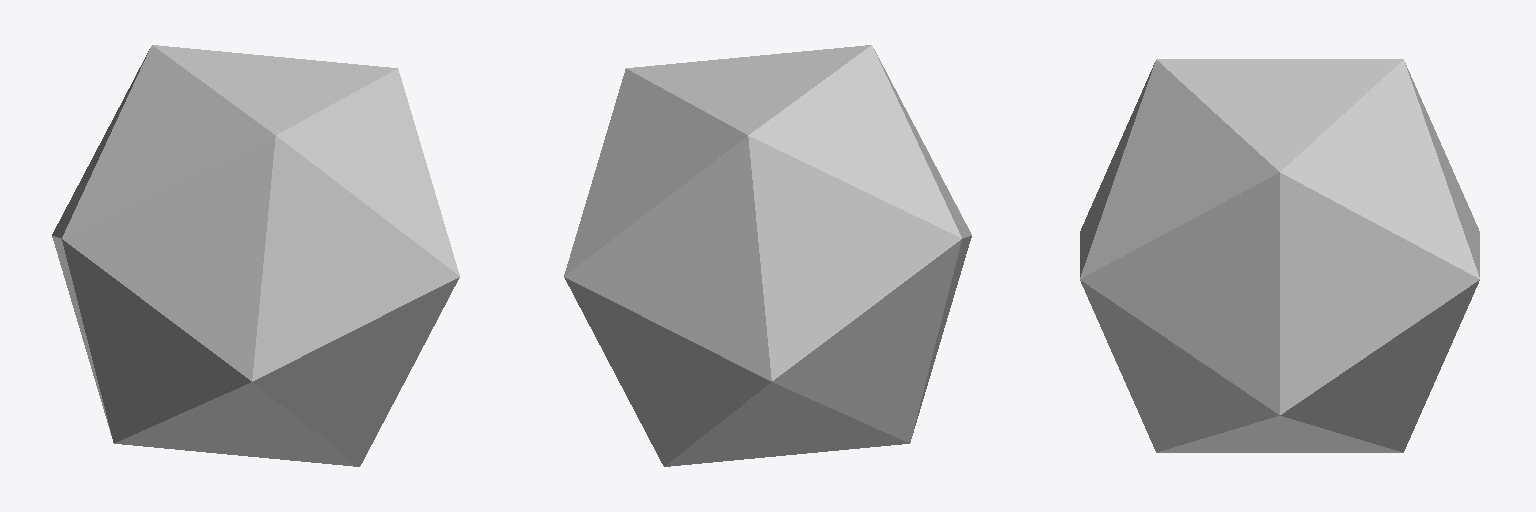
The model's file is polyhedron_green.obj.
3 views of the same model, side by side, from view 1: azimuth 30°, elevation 25°; view 2: azimuth 150°, elevation 25°; view 3: azimuth 270°, elevation 25° (orthographic).
Visible parts, largest first — view 1: 000_Polyhedron; view 2: 000_Polyhedron; view 3: 000_Polyhedron.
Boxes of the visible parts, <box> form: 000_Polyhedron: <box>52,45,459,466</box>; 000_Polyhedron: <box>564,45,971,466</box>; 000_Polyhedron: <box>1080,59,1479,452</box>.
Size of the model in its own units: 95.29 by 82.52 by 85.07.